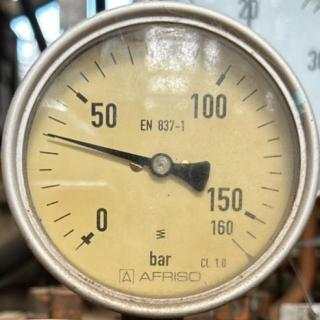gauge: (0, 0, 320, 320), (68, 204, 116, 260), (205, 216, 258, 264), (148, 151, 174, 179), (40, 130, 59, 142)
